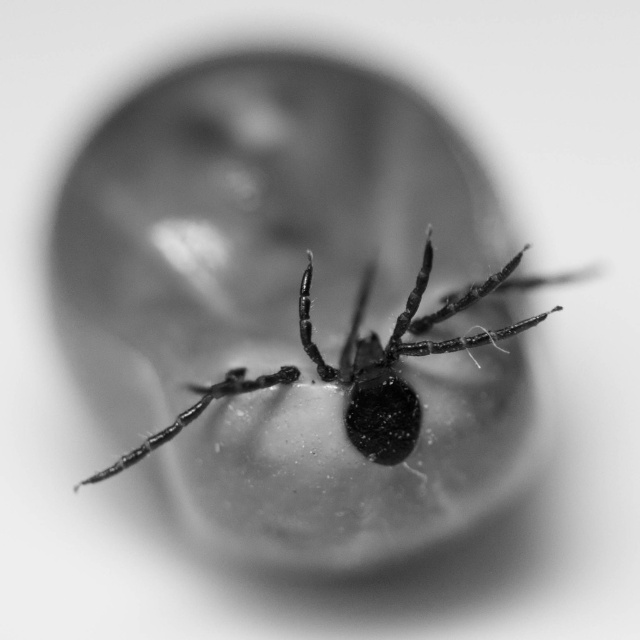Spider: (73, 223, 599, 494)
